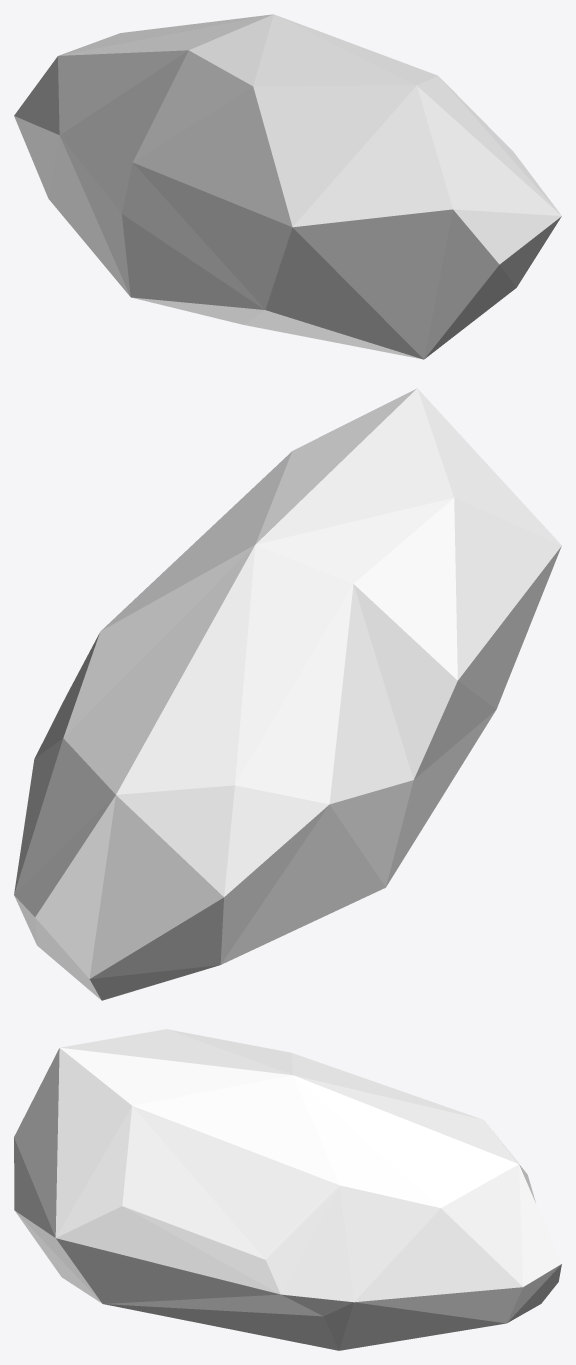
The model's file is Crop_Potato_02.glb.
3 views of the same model, one above another, from view 1: azimuth 30°, elevation 25°; view 2: azimuth 150°, elevation 25°; view 3: azimuth 270°, elevation 25° (orthographic). The views are drawn at different scales.
Visible parts, largest first — view 1: Crop_Potato_02; view 2: Crop_Potato_02; view 3: Crop_Potato_02.
Boxes of the visible parts, left/top/right/bottom form: Crop_Potato_02: left=14, top=14, right=561, bottom=359; Crop_Potato_02: left=14, top=388, right=561, bottom=1000; Crop_Potato_02: left=14, top=1029, right=561, bottom=1350.
Bounding box in the file's own units: 0.1215 × 0.1241 × 0.2106.
Materials: 1 (1 with a texture image).
